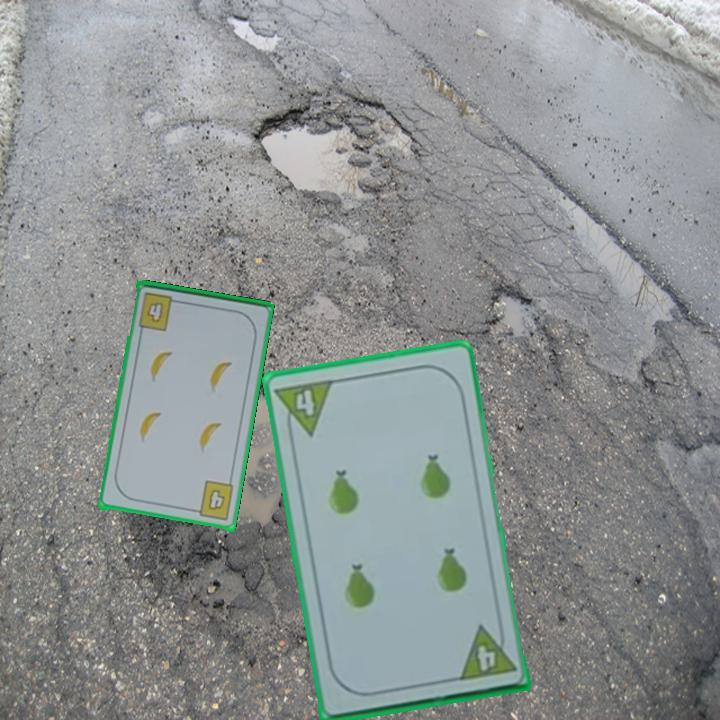4b: (189, 478, 237, 524), (135, 289, 183, 334)
4p: (271, 376, 336, 442), (454, 620, 519, 684)
